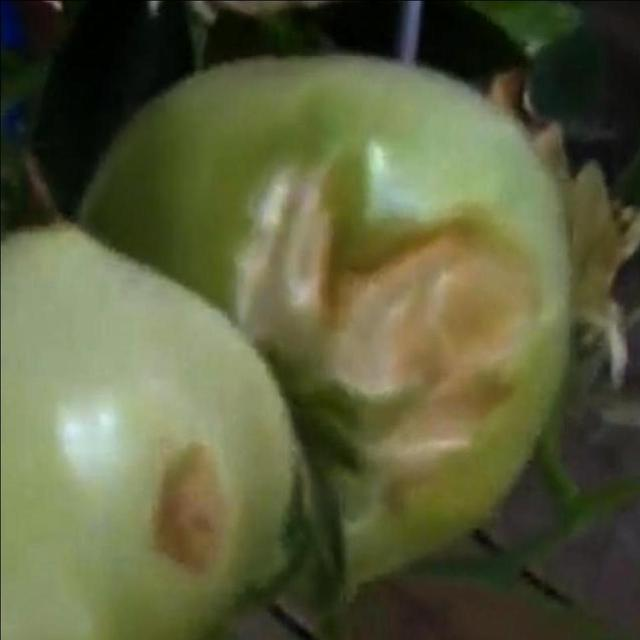Sunscald Fruit: (69, 113, 261, 337)
